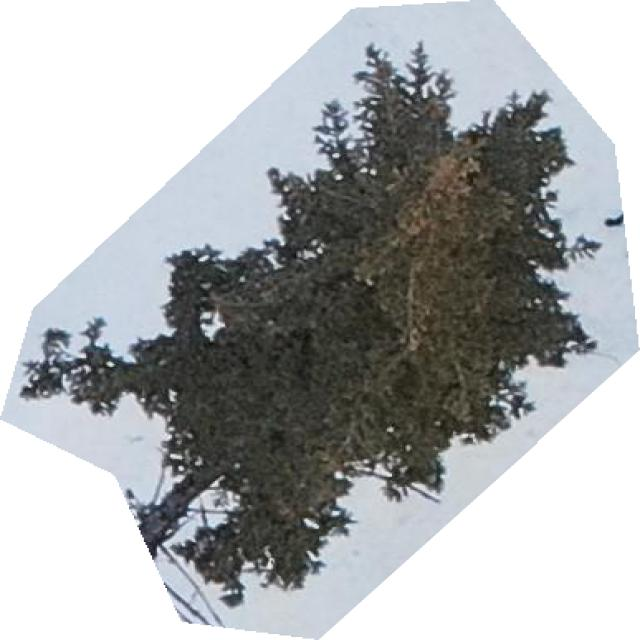spruce: (3, 0, 637, 637)
